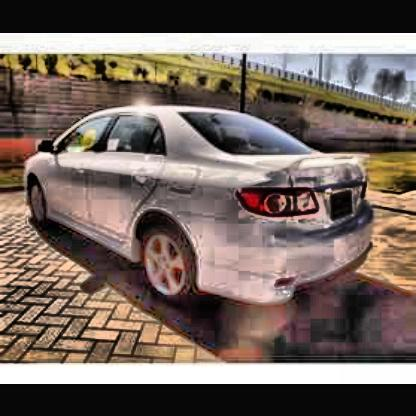Toyota Corolla Sedan 2012: (23, 103, 379, 319)
